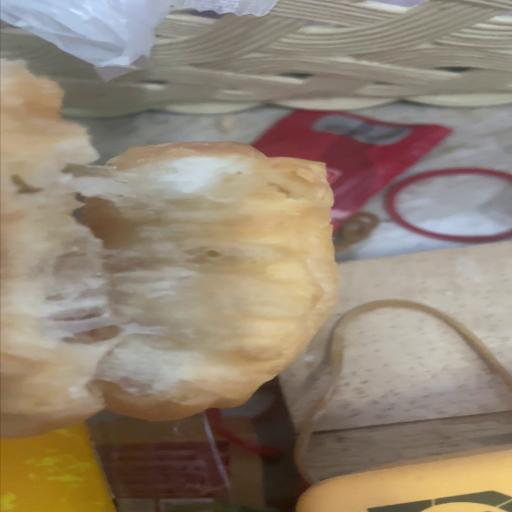street_golden_defect: (2, 147, 337, 426)
